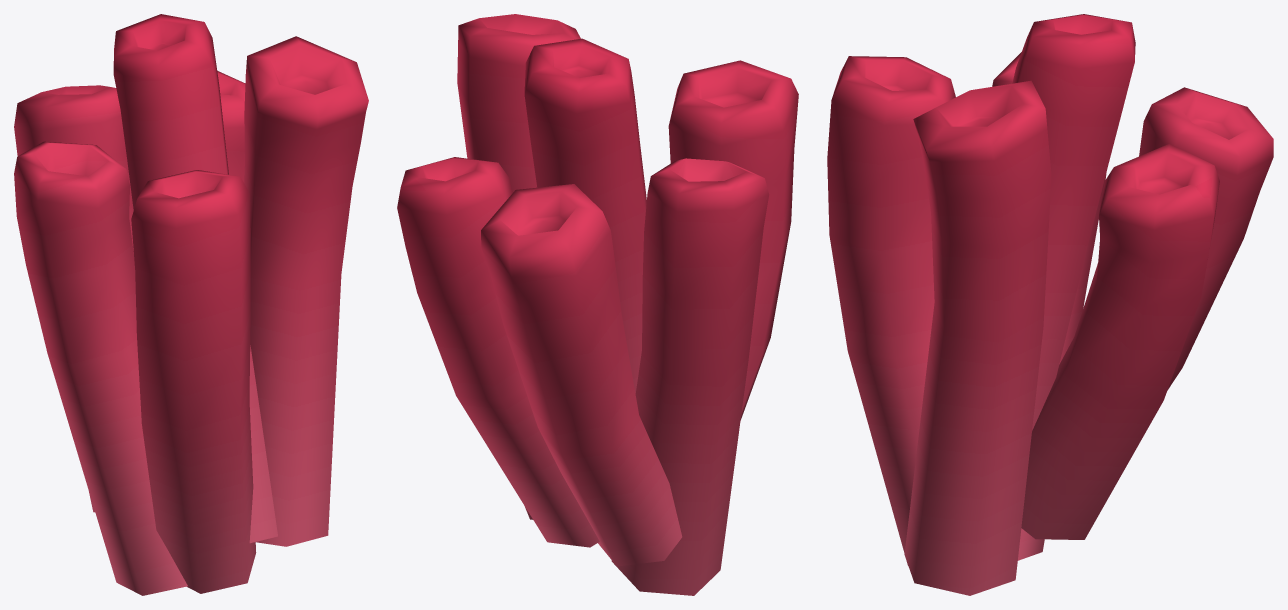
The model's file is CoralF.fbx.
3 renders of one model, left to right at view 1: azimuth 30°, elevation 25°; view 2: azimuth 150°, elevation 25°; view 3: azimuth 270°, elevation 25°, orthographic. The views are drawn at different scales.
Visible parts, largest first — view 1: CoralF; view 2: CoralF; view 3: CoralF.
Part boxes in pixels (x1=…): CoralF: x1=14, y1=14, x2=368, y2=595; CoralF: x1=397, y1=14, x2=798, y2=595; CoralF: x1=827, y1=14, x2=1273, y2=595.
Size of the model in its own units: 26.56 by 42.4 by 30.82.
1 material, 1 textured.
